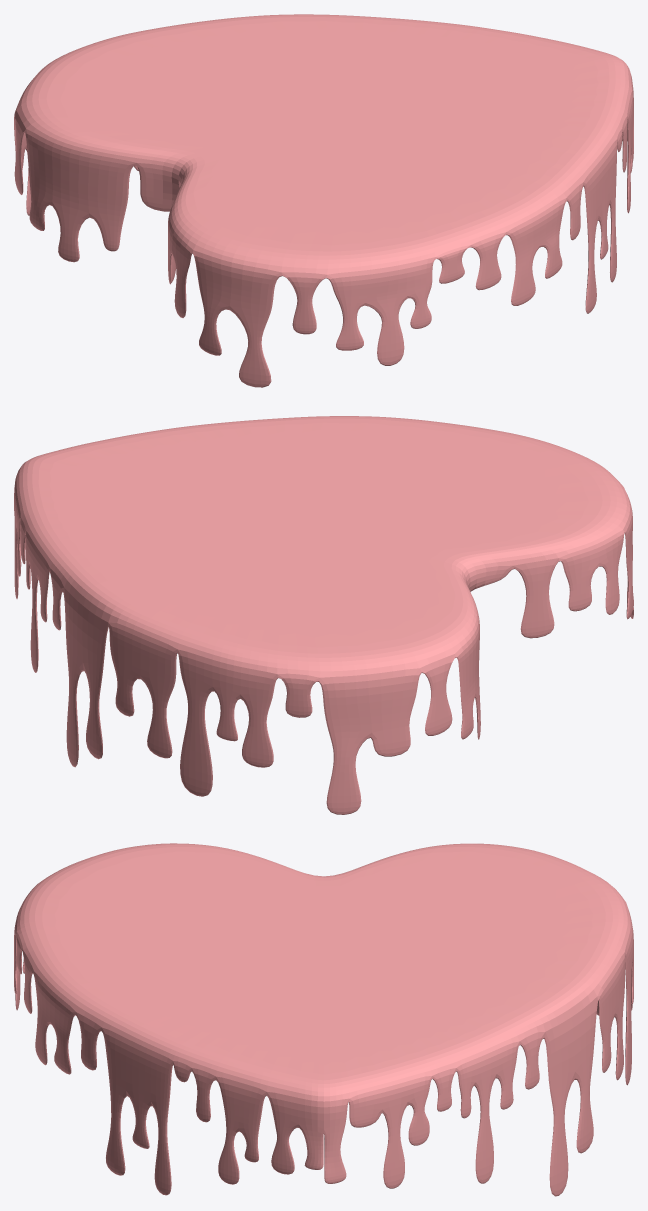
Rendered from GlazePink2.glb.
The picture shows the model from 3 angles, top to bottom: view 1: azimuth 30°, elevation 25°; view 2: azimuth 150°, elevation 25°; view 3: azimuth 270°, elevation 25°; orthographic projection.
Parts seen in each view (by area): view 1: Cylinder.009; view 2: Cylinder.009; view 3: Cylinder.009.
Boxes of the visible parts, x1,y1,x2,y2 form: Cylinder.009: (14,14,633,387); Cylinder.009: (14,416,633,814); Cylinder.009: (14,843,633,1196).
Bounding box in the file's own units: 1.63 × 0.555 × 1.66.
